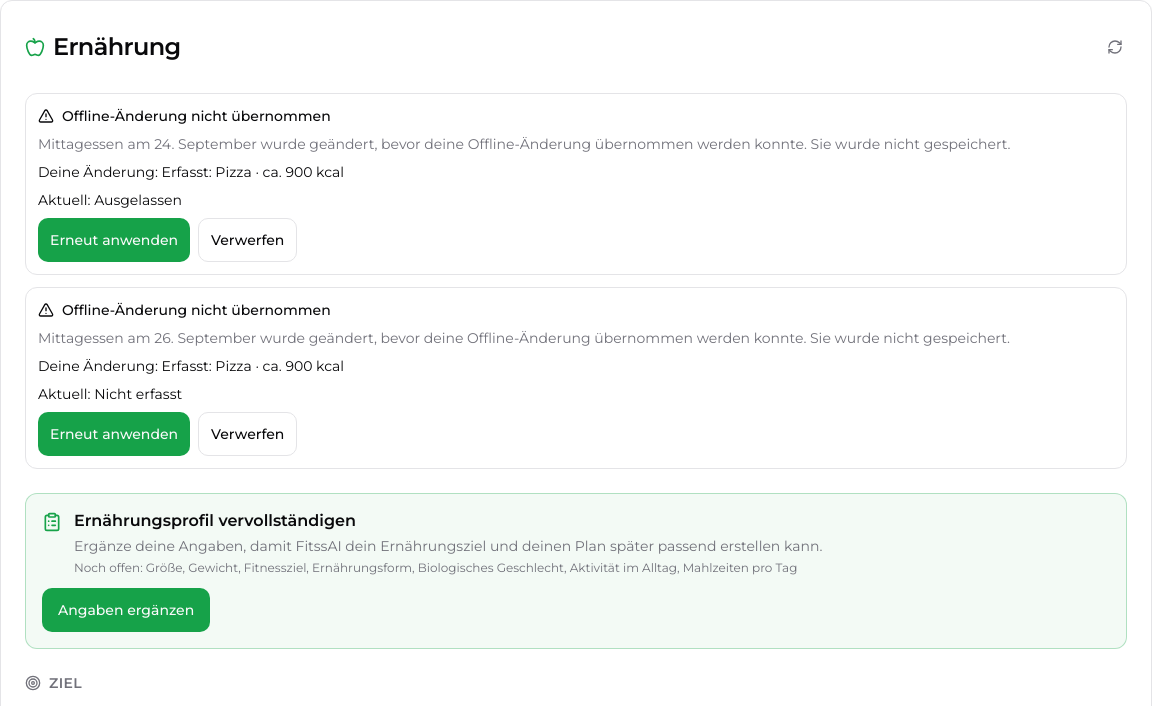
it: conflict visibility outside today's recording › dismisses from outside the plan: only the local record goes, nothing is written
Click the button "Verwerfen" below "Aktuell: Ausgelassen": (248, 240) [198,218,297,262]
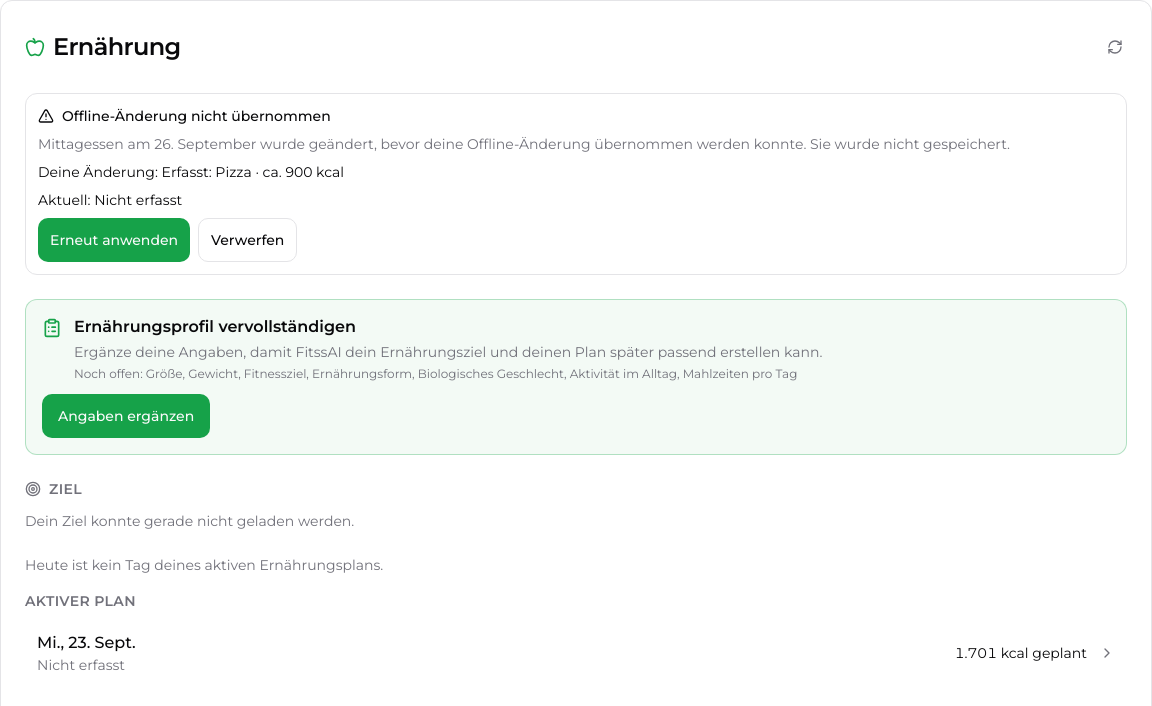
Expected: the number of elements with test id "nutrition-v2-conflict" is 1, [25,93,1127,275]
